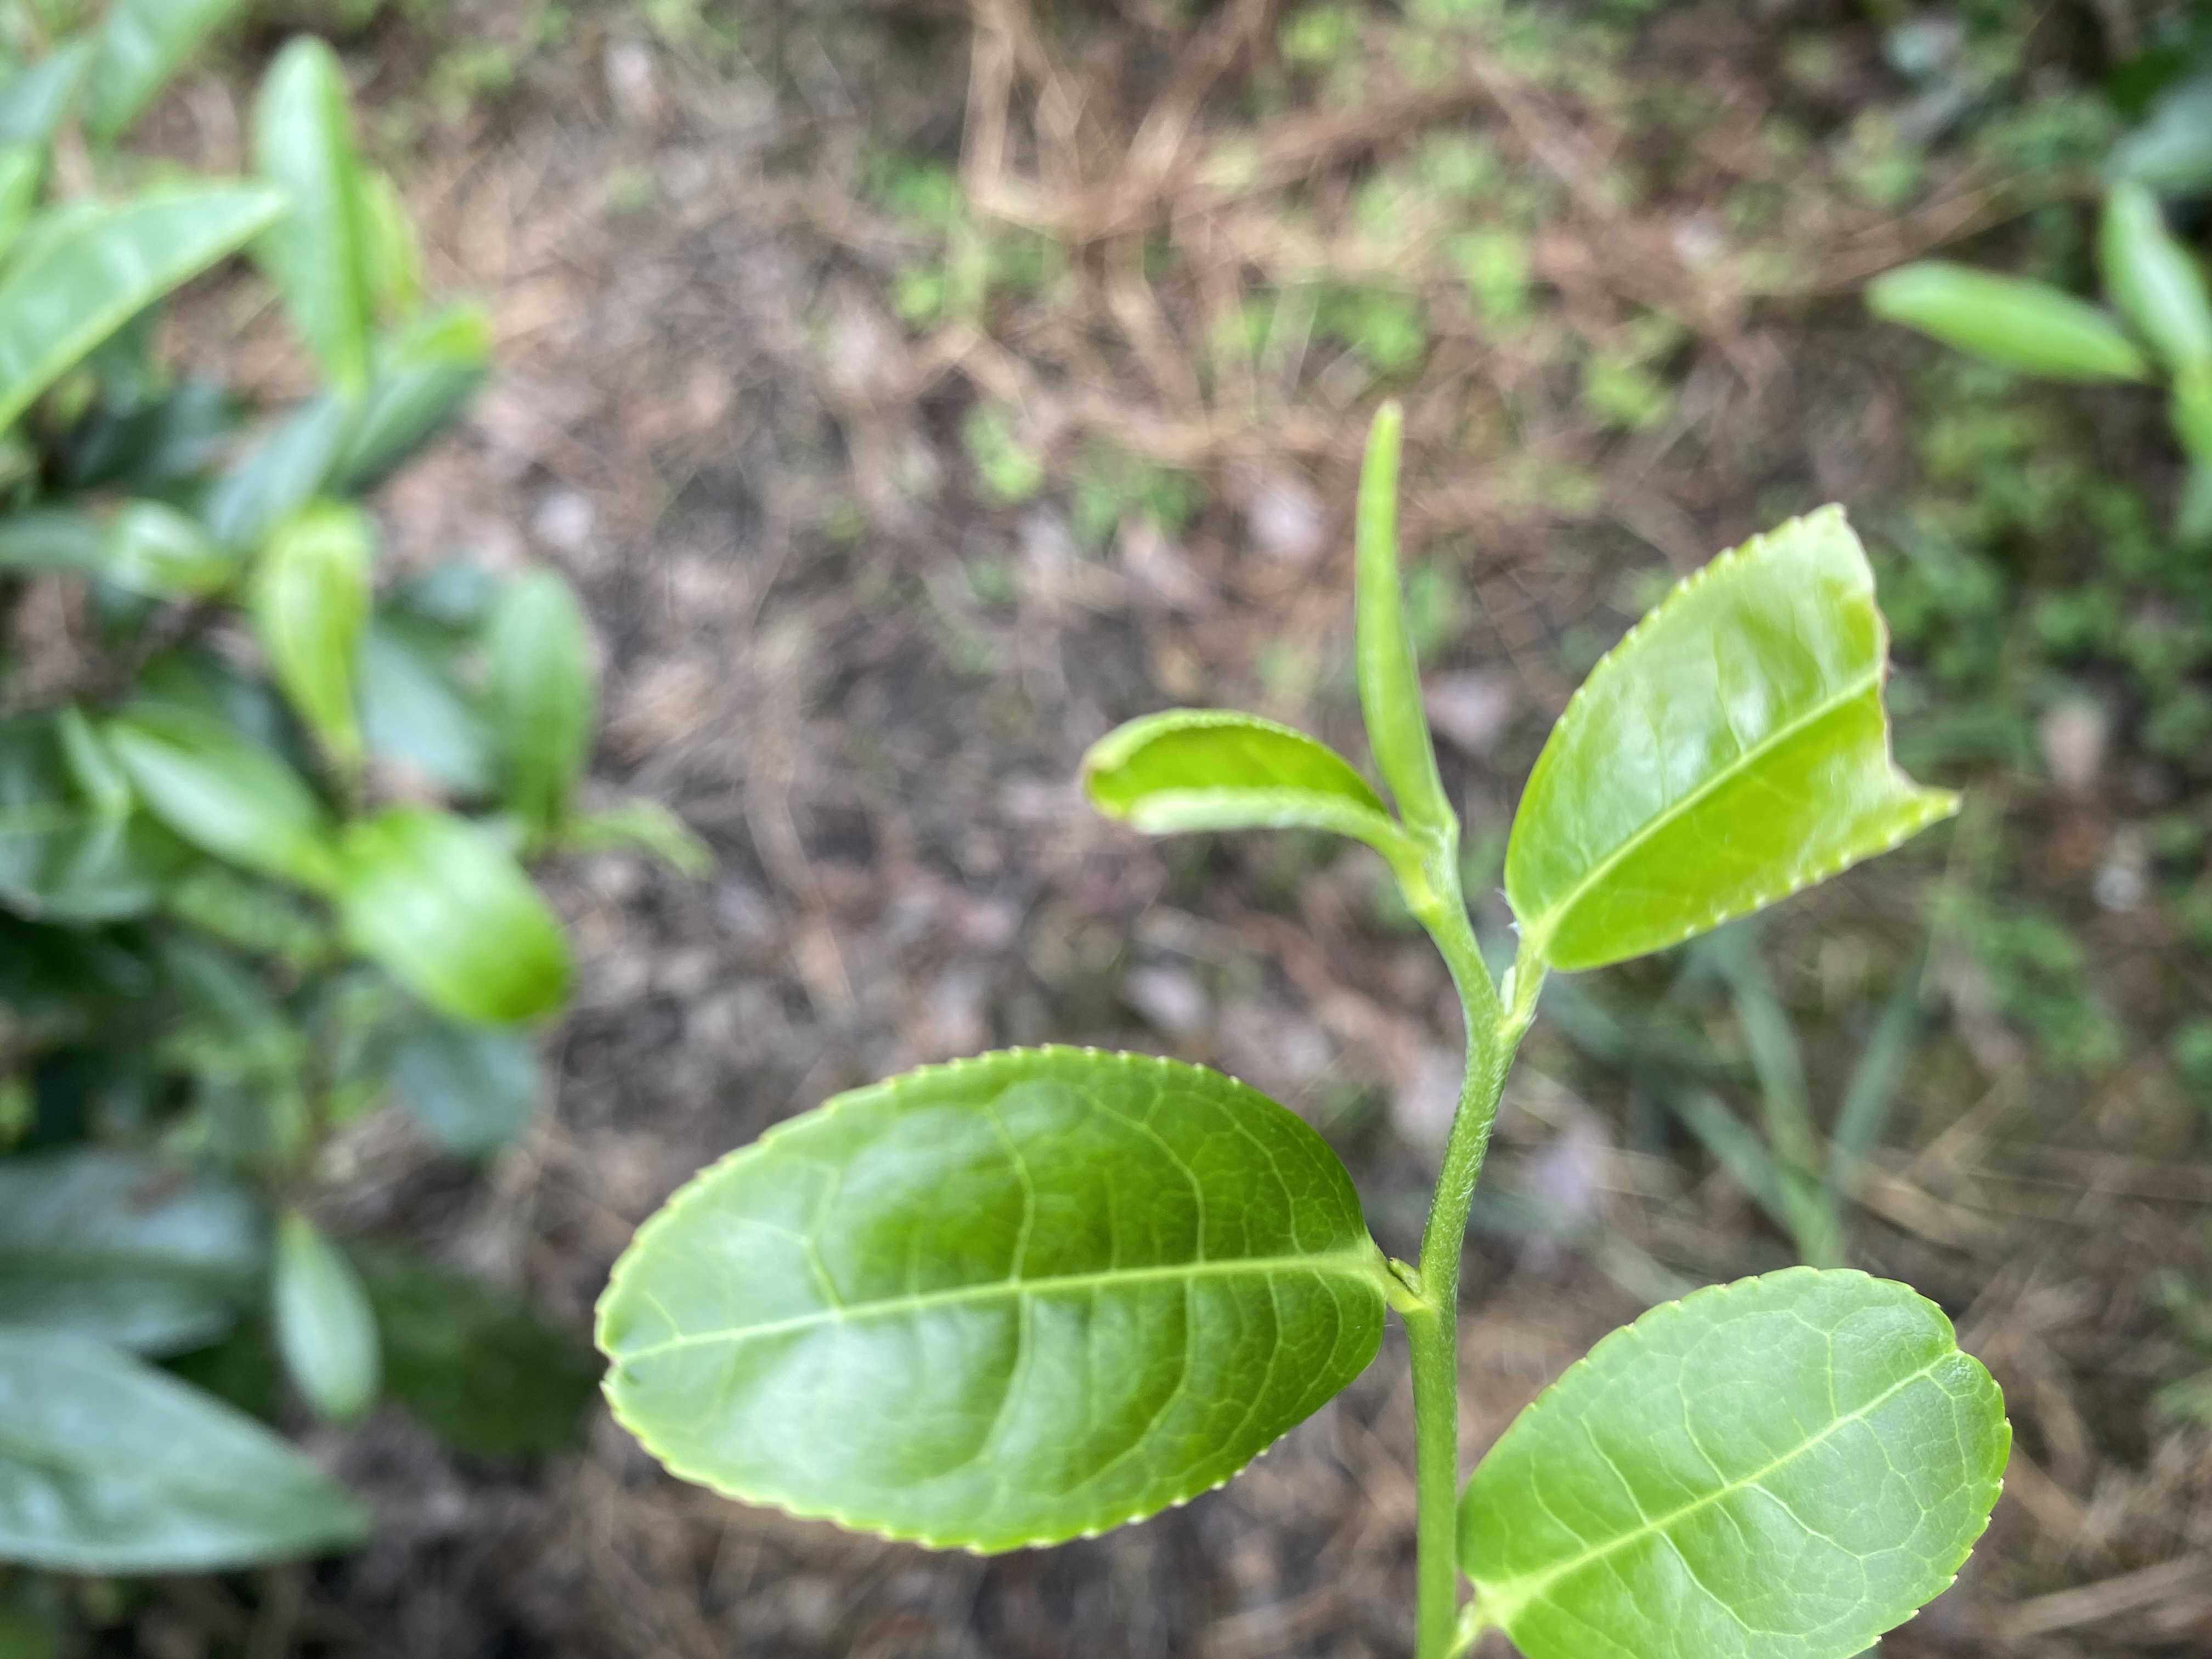chihuo_high: (1501, 500, 1965, 979)
healthy: (594, 1042, 1385, 1560), (1460, 1265, 2013, 1657)
